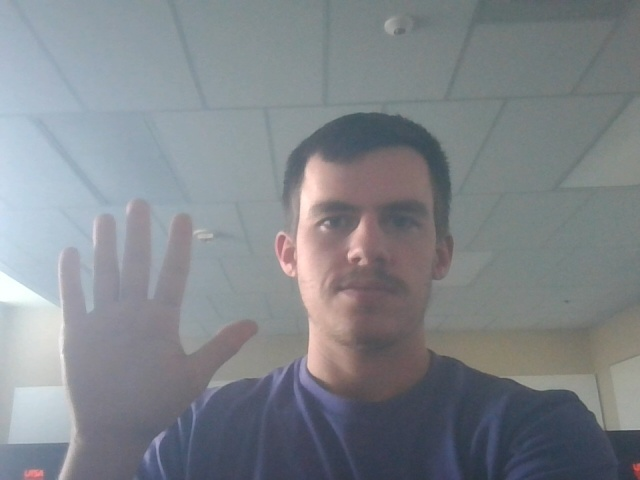hello: (43, 189, 268, 445)
